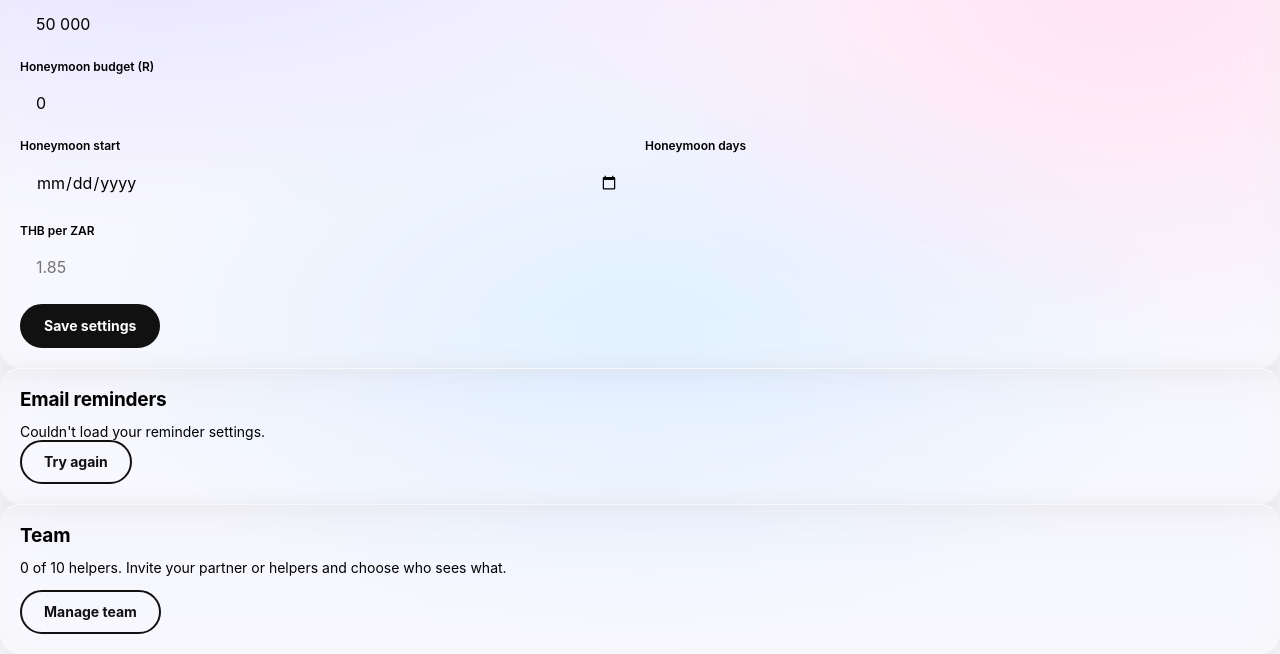
Scenario: a failed load shows a retry, never the defaults, and retry recovers
(page scrolled)
Check: the text "Couldn't load your reminder settings." is shown, box [20,423,265,440]
Check: the button "Save reminders" is not shown
Click the button "Try again". click: (76, 462)
box: [20,440,132,484]
(page scrolled)
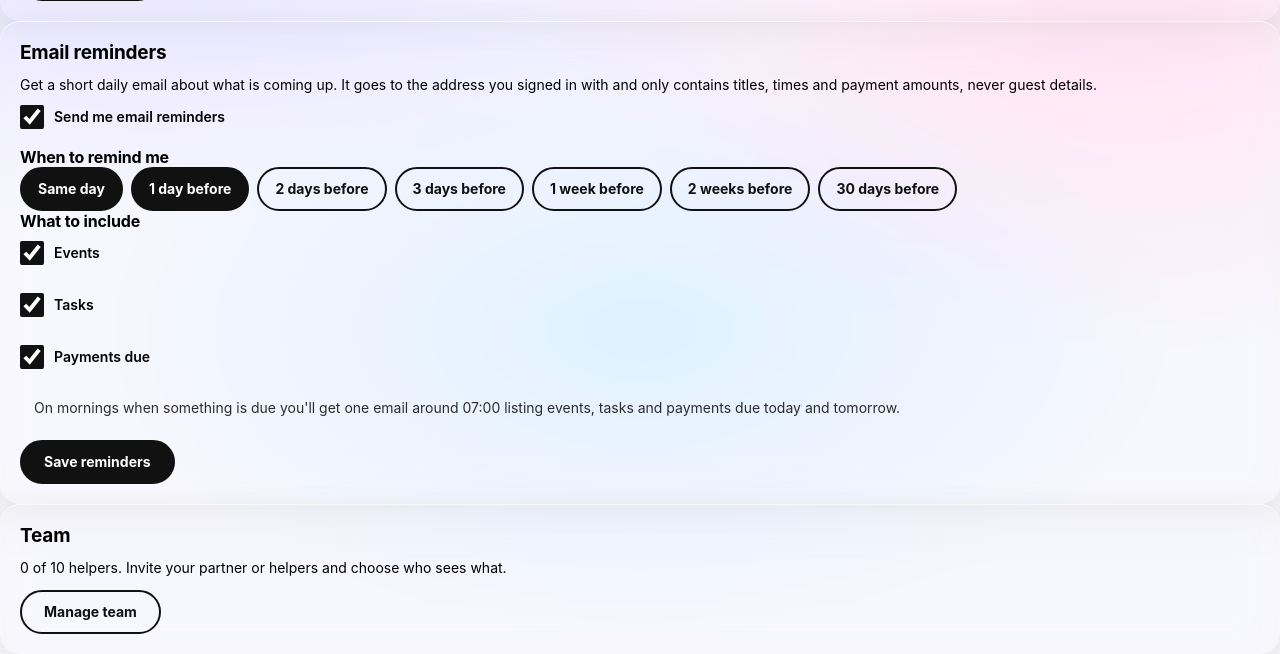
Check: the button "Save reminders" is shown, box [20,440,174,484]
